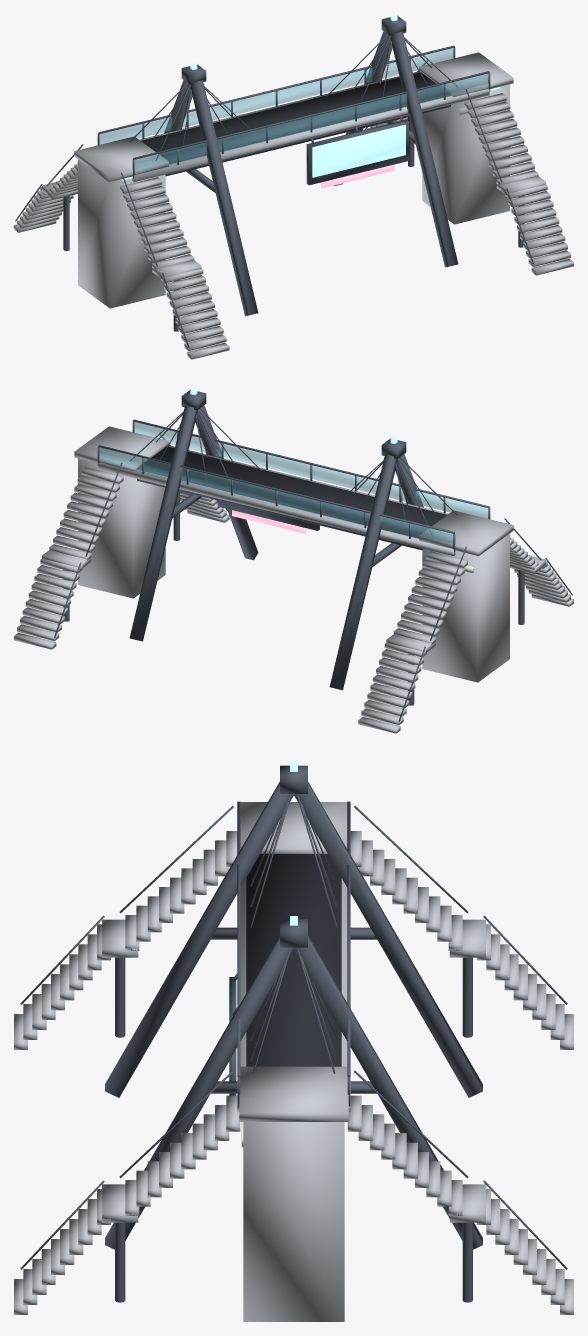
Rendered from becketts_pedestrian_flyover.glb.
3 renders of one model, top to bottom at view 1: azimuth 30°, elevation 25°; view 2: azimuth 150°, elevation 25°; view 3: azimuth 270°, elevation 25°, orthographic. The views are drawn at different scales.
Visible parts, largest first — view 1: Surface_concrete, Surface_steel, Surface_glass, Surface_deck, Surface_led, Surface_sign; view 2: Surface_concrete, Surface_steel, Surface_glass, Surface_deck, Surface_sign; view 3: Surface_concrete, Surface_steel, Surface_deck.
Boxes of the visible parts, <box> form: Surface_concrete: <box>14,52,573,359</box>; Surface_steel: <box>15,15,533,347</box>; Surface_glass: <box>99,48,488,173</box>; Surface_deck: <box>141,72,450,164</box>; Surface_led: <box>121,14,499,180</box>; Surface_sign: <box>321,164,394,188</box>; Surface_concrete: <box>14,426,573,733</box>; Surface_steel: <box>54,389,572,721</box>; Surface_glass: <box>99,422,488,547</box>; Surface_deck: <box>137,446,446,538</box>; Surface_sign: <box>232,510,305,533</box>; Surface_concrete: <box>14,802,573,1321</box>; Surface_steel: <box>20,765,567,1302</box>; Surface_deck: <box>246,854,341,1066</box>.
Size of the model in its own units: 36.4 by 18.06 by 27.7.
